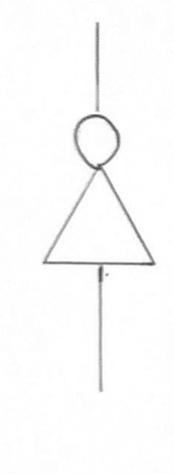NOT: (34, 103, 173, 301)
